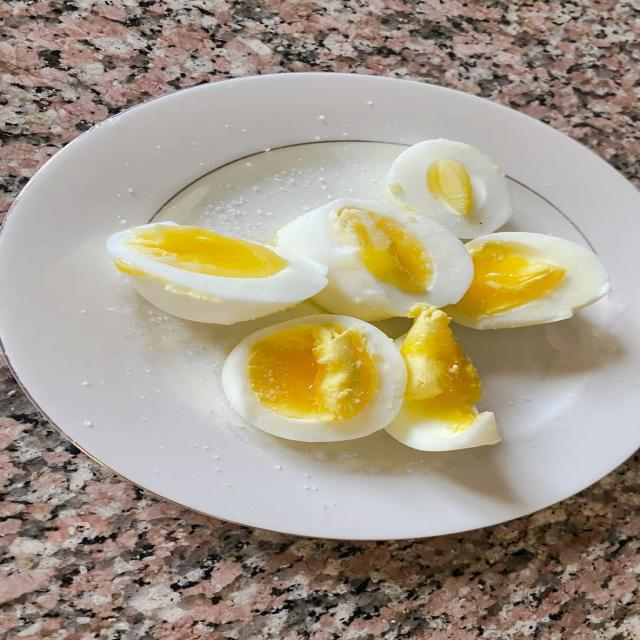egg boiled: (277, 199, 472, 320), (222, 315, 406, 441), (107, 222, 326, 324), (387, 306, 499, 451), (446, 232, 609, 328), (388, 139, 512, 238)
